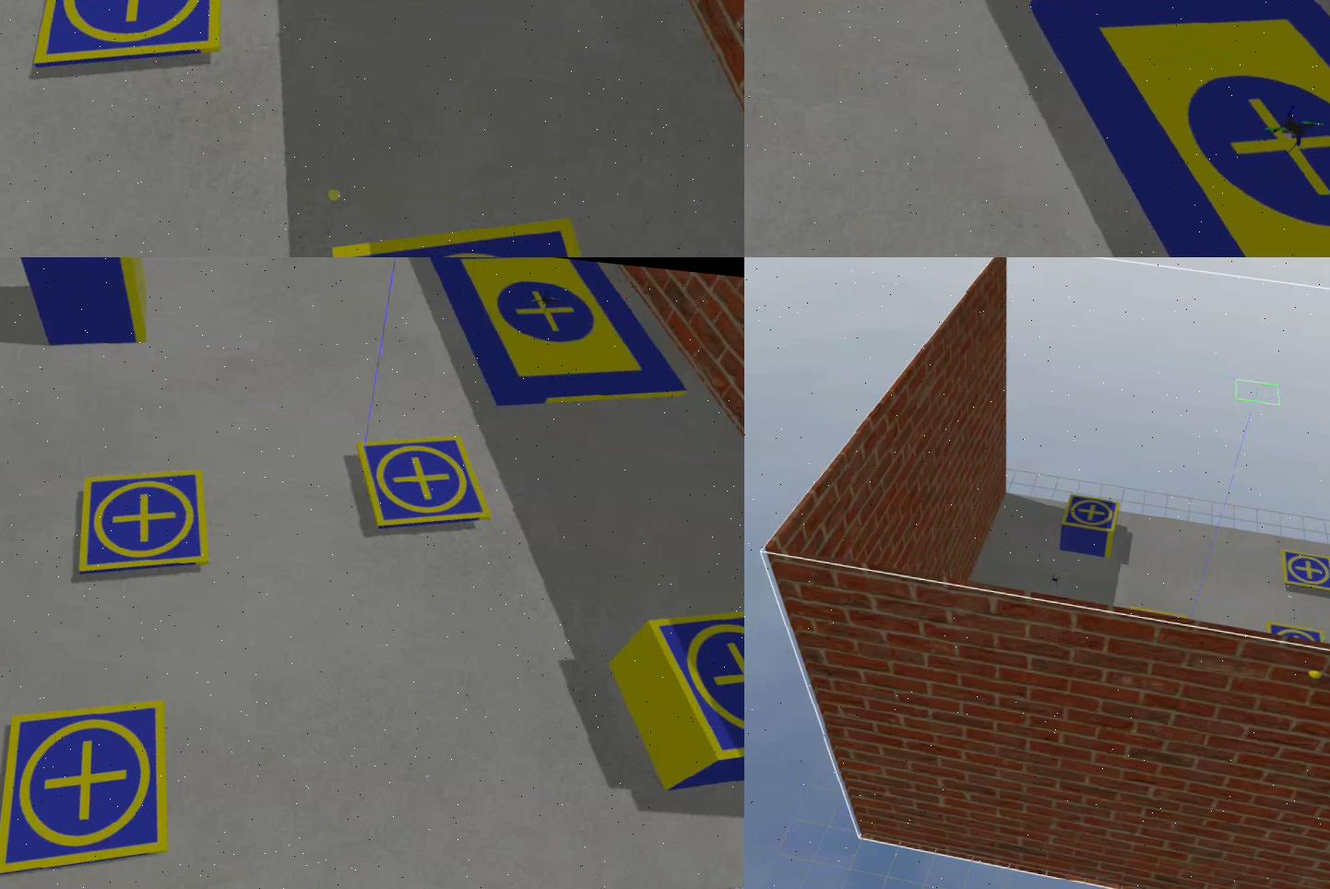large_base: (988, 1, 1330, 258), (403, 258, 699, 428)
small_base: (1, 684, 188, 889), (315, 196, 677, 258), (635, 597, 745, 776), (70, 460, 218, 587), (30, 1, 239, 89), (350, 430, 499, 544), (1062, 492, 1124, 536), (1277, 548, 1330, 597), (1266, 622, 1327, 646)
